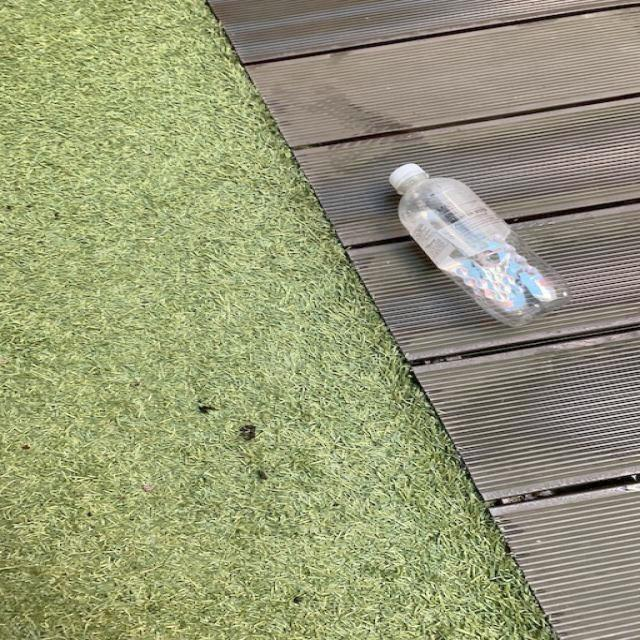bottle: (386, 163, 575, 328)
